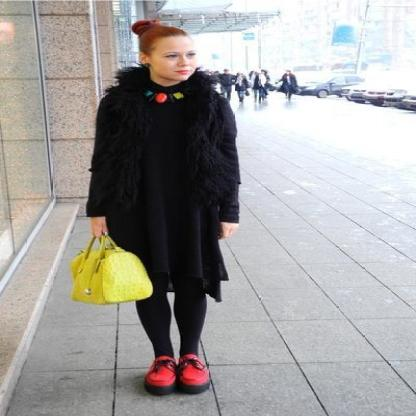bag: (71, 234, 152, 304)
dress: (86, 63, 240, 307)
shoe: (144, 353, 218, 406)
